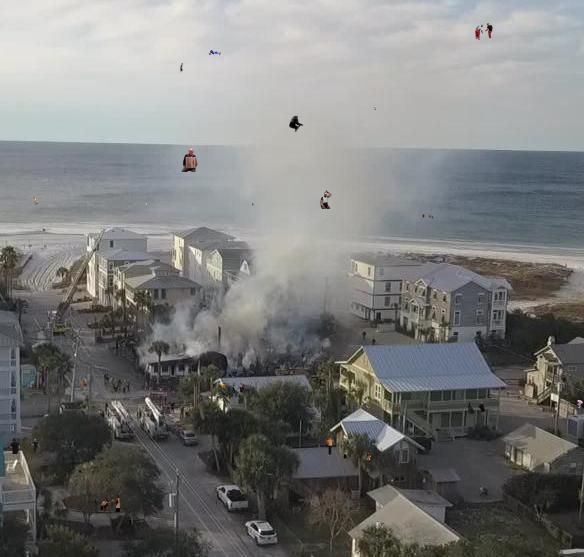Human: (212, 382, 245, 397), (95, 495, 124, 512), (10, 438, 40, 454), (181, 148, 198, 172), (343, 452, 372, 463), (475, 23, 493, 40), (468, 400, 485, 417), (289, 115, 304, 132), (320, 190, 332, 209), (325, 436, 335, 456), (422, 213, 439, 220), (370, 521, 384, 529), (179, 405, 185, 419), (208, 50, 221, 56), (479, 485, 484, 497), (31, 197, 38, 205), (577, 400, 583, 408), (82, 378, 87, 387), (138, 328, 144, 333), (180, 63, 183, 73), (388, 479, 393, 482), (144, 202, 147, 206), (374, 107, 376, 110), (252, 203, 254, 206), (553, 496, 555, 499), (514, 181, 516, 183)
